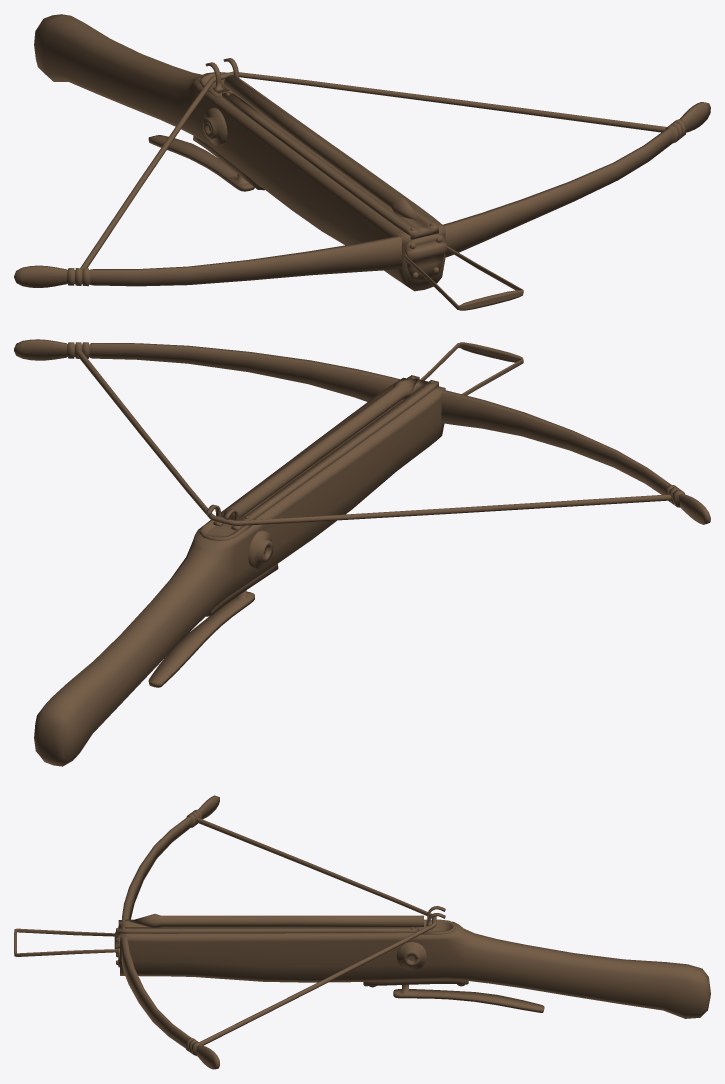
Rendered from crossbow.FBX.
3 renders of one model, top to bottom at view 1: azimuth 30°, elevation 25°; view 2: azimuth 150°, elevation 25°; view 3: azimuth 270°, elevation 25°, orthographic. The views are drawn at different scales.
Visible parts, largest first — view 1: crossbow_low, arrow_low; view 2: crossbow_low, arrow_low; view 3: crossbow_low, arrow_low.
Boxes of the visible parts, x1,y1,x2,y2 form: crossbow_low: (14, 14, 710, 310); arrow_low: (224, 75, 418, 219); crossbow_low: (14, 339, 710, 766); arrow_low: (224, 378, 418, 520); crossbow_low: (14, 795, 710, 1069); arrow_low: (129, 913, 423, 927).
Bounding box in the file's own units: 89.35 × 16.61 × 98.88.
